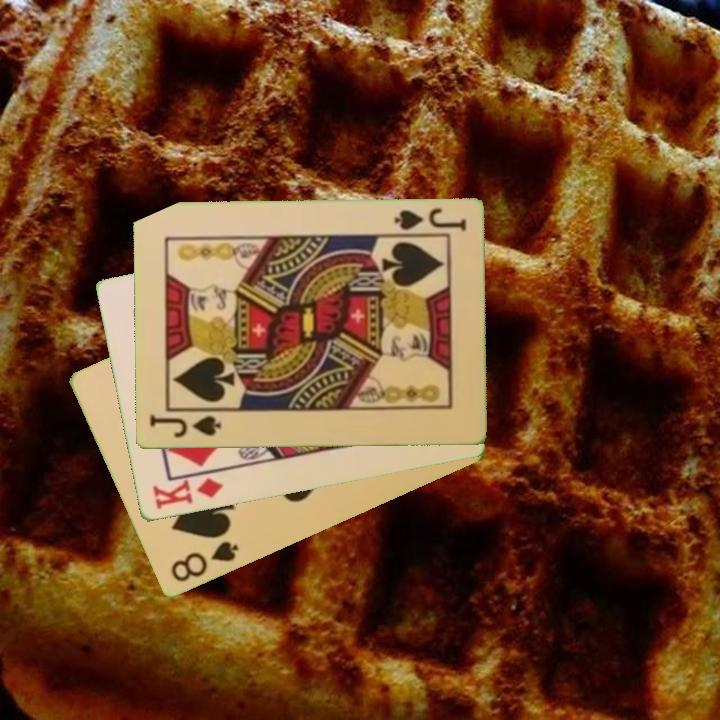8s: (167, 538, 242, 586)
Js: (390, 205, 469, 237), (145, 411, 223, 441)
Kd: (149, 474, 226, 513)
